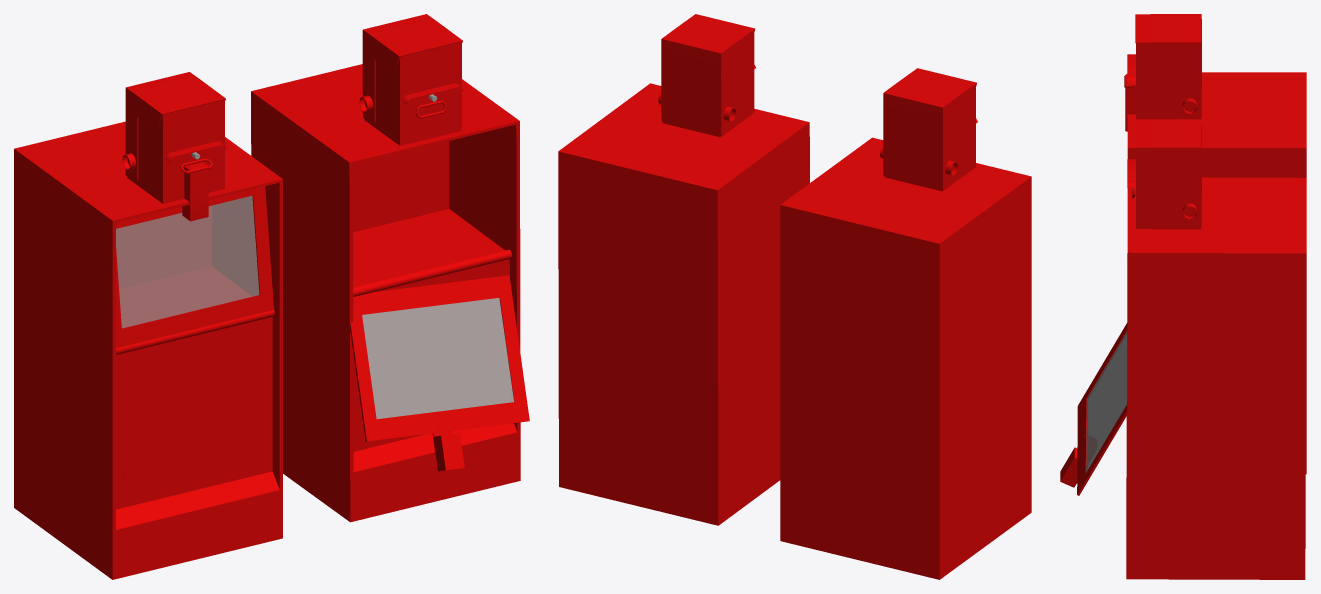
The model's file is NewspaperDispenser.fbx.
3 views of the same model, side by side, from view 1: azimuth 30°, elevation 25°; view 2: azimuth 150°, elevation 25°; view 3: azimuth 270°, elevation 25° (orthographic). The views are drawn at different scales.
Parts seen in each view (by area): view 1: polySurface2, polySurface10, polySurface11, polySurface8, polySurface12, pasted__pCube37, pasted__pCube35, polySurface7, polySurface9, pasted__pCube33, pasted__pCube39, pasted__pCylinder19 (+3 smaller); view 2: polySurface2, polySurface10, pasted__pCube39, pasted__pCube33, pasted__pCube37, pasted__pCube35; view 3: polySurface10, polySurface2, pasted__pCube39, pasted__pCube33, polySurface11, pasted__pCube37, pasted__pCube35, polySurface12, polySurface13, polySurface6.
Boxes of the visible parts, x1,y1,x2,y2 form: polySurface2: [14, 121, 282, 579]; polySurface10: [251, 64, 520, 522]; polySurface11: [362, 298, 514, 419]; polySurface8: [116, 196, 259, 328]; polySurface12: [350, 275, 529, 441]; pasted__pCube37: [364, 42, 461, 145]; pasted__pCube35: [127, 100, 224, 203]; polySurface7: [116, 186, 273, 348]; polySurface9: [119, 330, 266, 480]; pasted__pCube33: [125, 72, 225, 180]; pasted__pCube39: [362, 14, 462, 122]; pasted__pCylinder19: [353, 249, 511, 296]; polySurface2: [780, 137, 1031, 579]; polySurface10: [558, 83, 809, 525]; pasted__pCube39: [661, 14, 755, 135]; pasted__pCube33: [883, 68, 976, 189]; pasted__pCube37: [662, 33, 754, 137]; pasted__pCube35: [884, 88, 975, 191]; polySurface10: [1126, 177, 1306, 579]; polySurface2: [1127, 72, 1306, 474]; pasted__pCube39: [1135, 119, 1201, 227]; pasted__pCube33: [1135, 14, 1201, 119]; polySurface11: [1086, 331, 1127, 472]; pasted__pCube37: [1136, 149, 1200, 229]; pasted__pCube35: [1136, 44, 1180, 119]; polySurface12: [1077, 323, 1127, 495]; polySurface13: [1060, 433, 1084, 487]; polySurface6: [1125, 77, 1135, 131].
Size of the model in its own units: 7.62 by 8.04 by 4.39.
